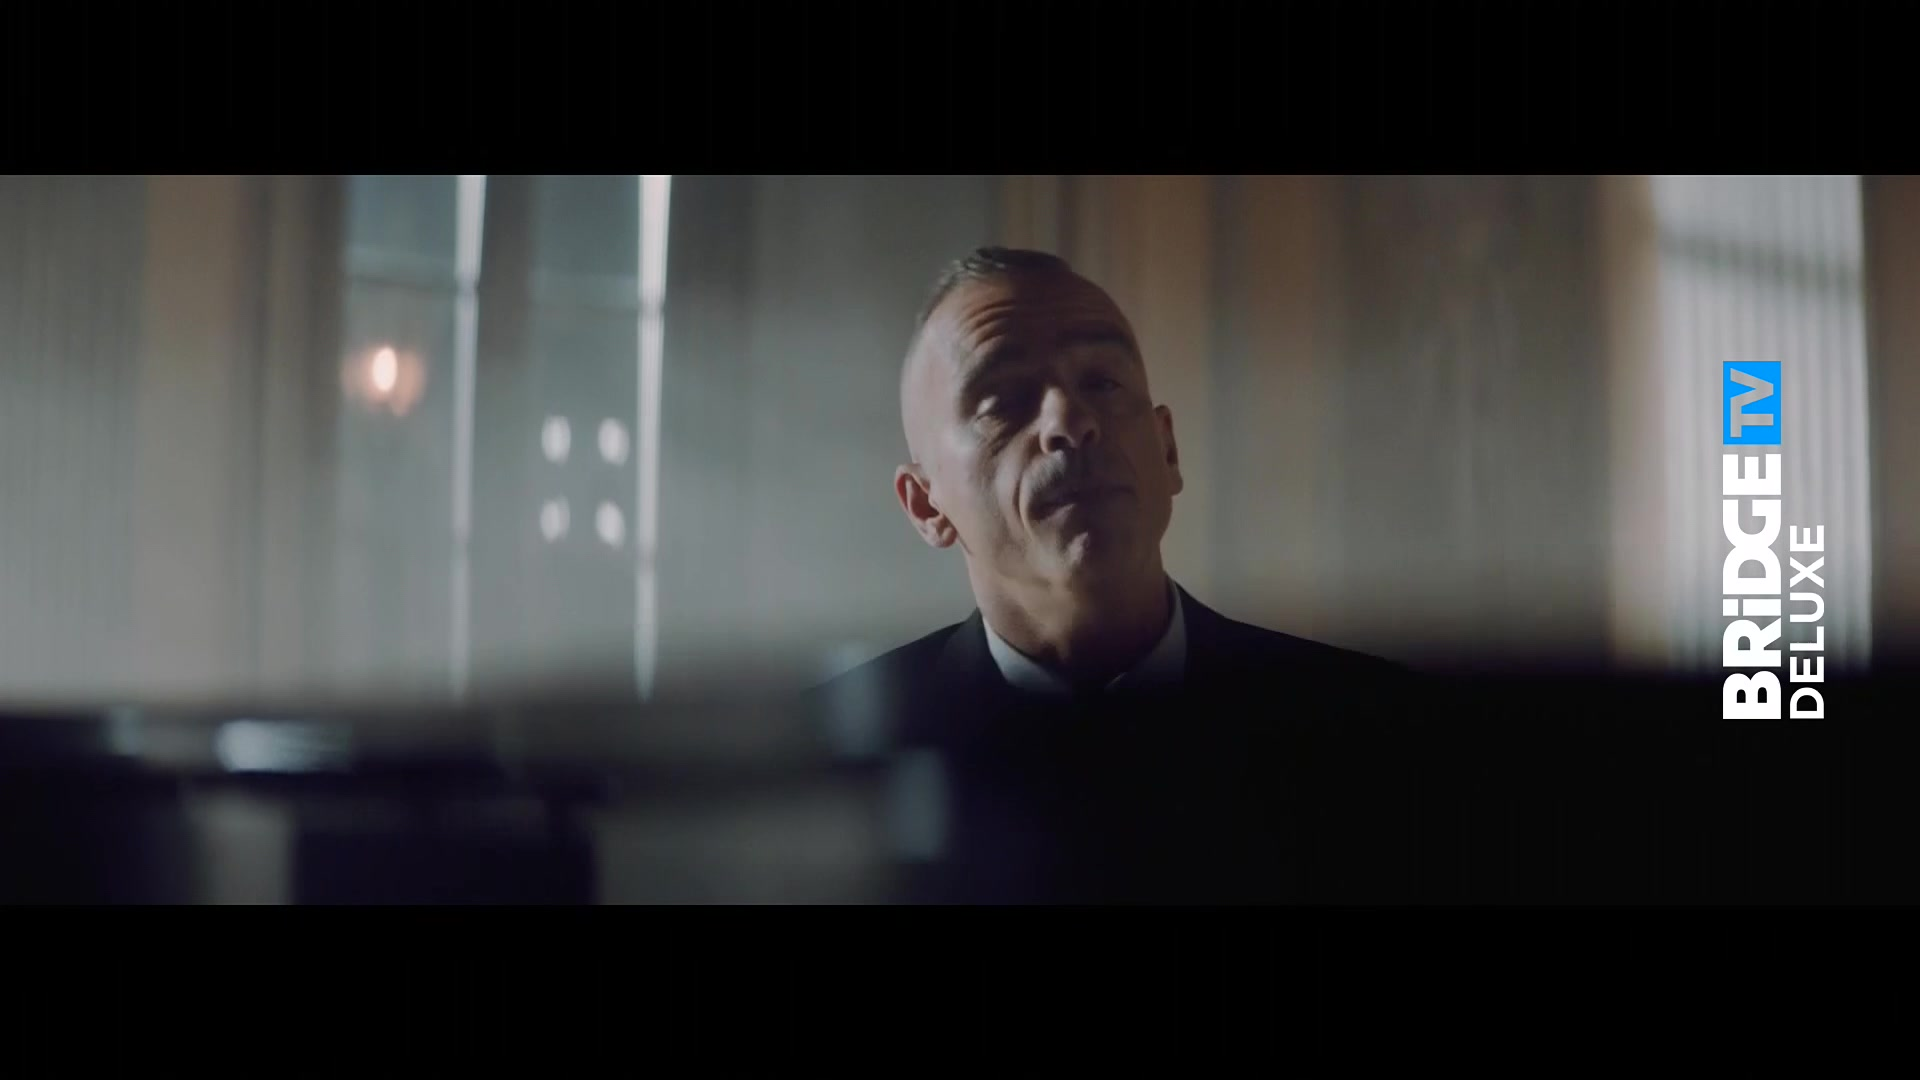Bridge_TV_Deluxe: (1720, 355, 1833, 727)
